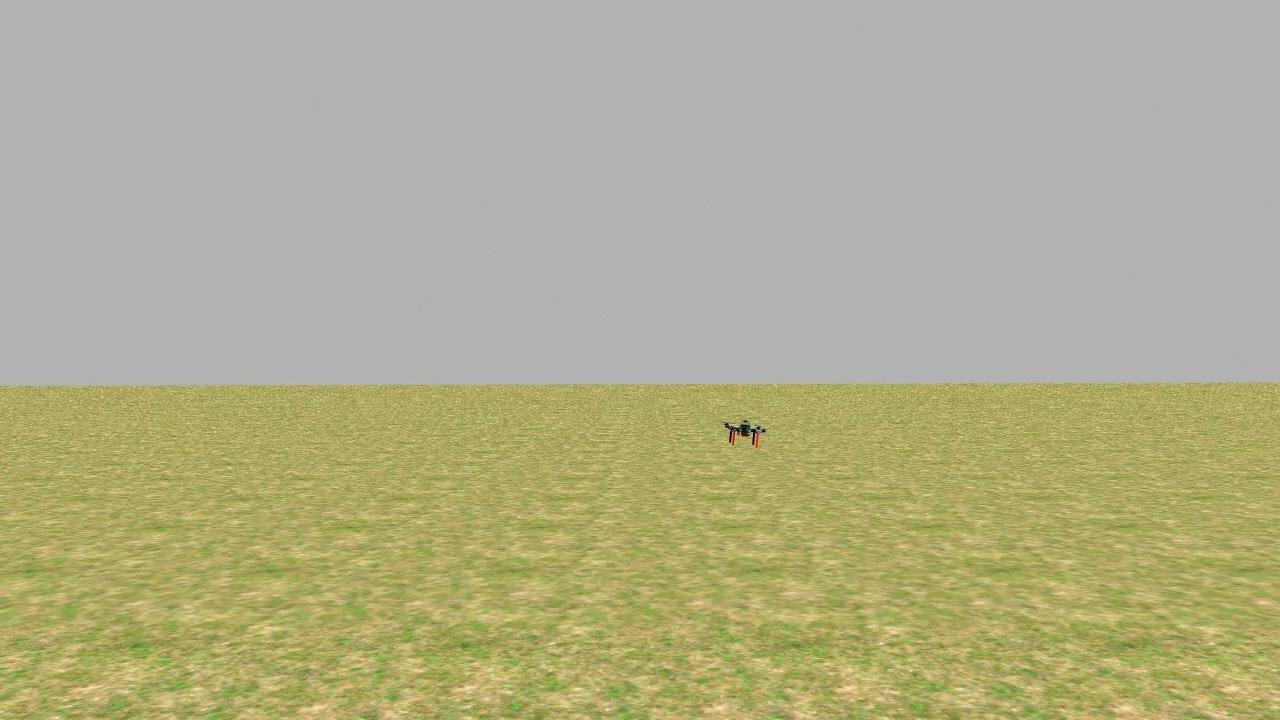UAV: (687, 391, 802, 467)
